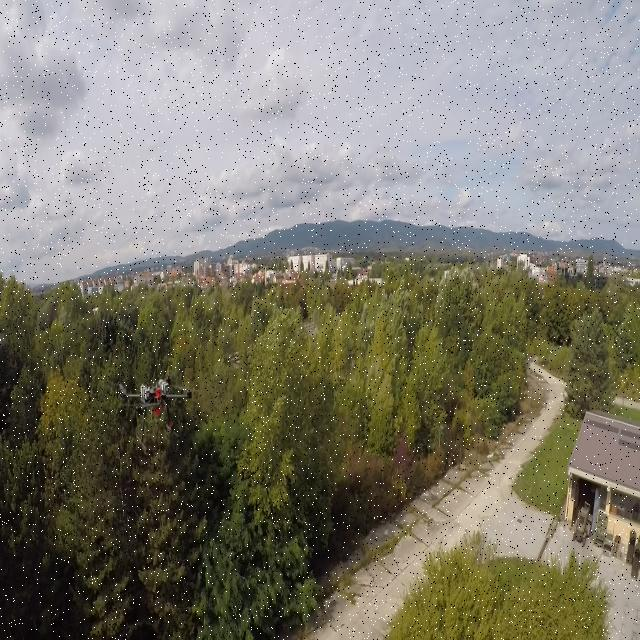UAV: (118, 372, 194, 454)
